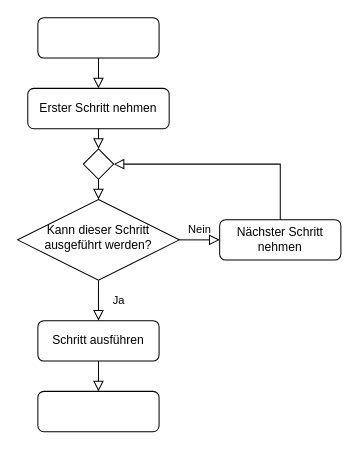
The diagram is 359 pixels wide and 449 high, and some of its shapes have lost their labels. The shapes that lost their labels are listed below. From the top down, each one's box as (x1, y1, x2, y2) in pixels, then its label:
(37, 17, 159, 58): Start
(37, 390, 159, 432): Ende
